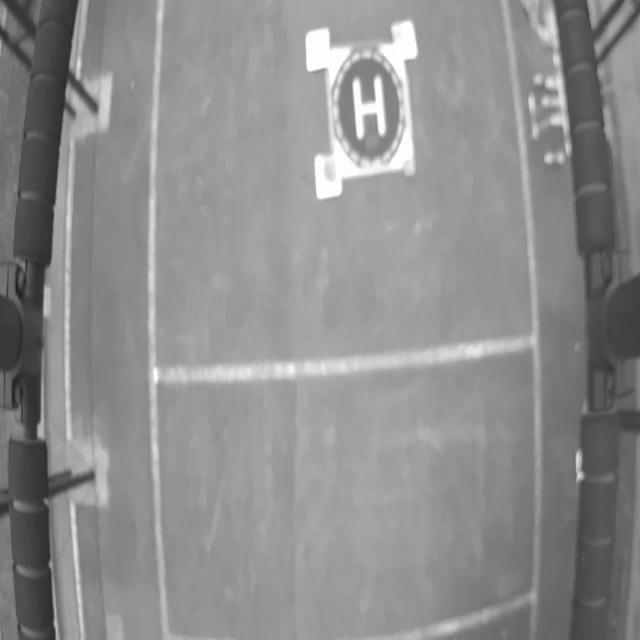Helipad: (352, 77, 386, 141)
